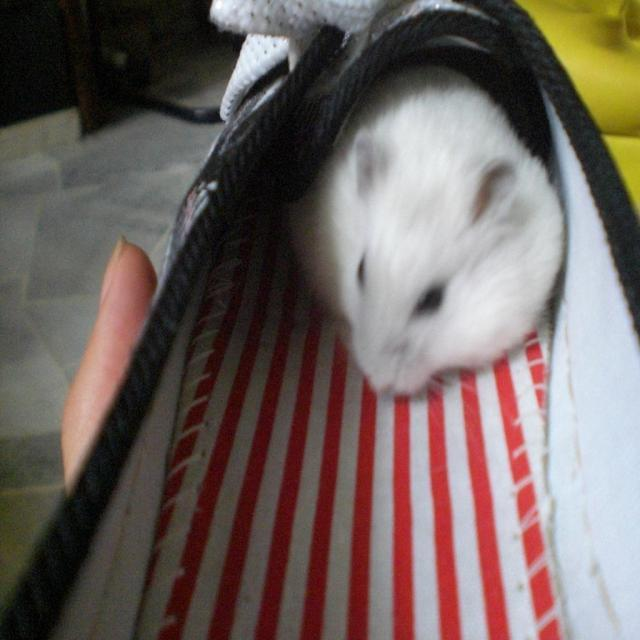rat: (289, 58, 567, 402)
